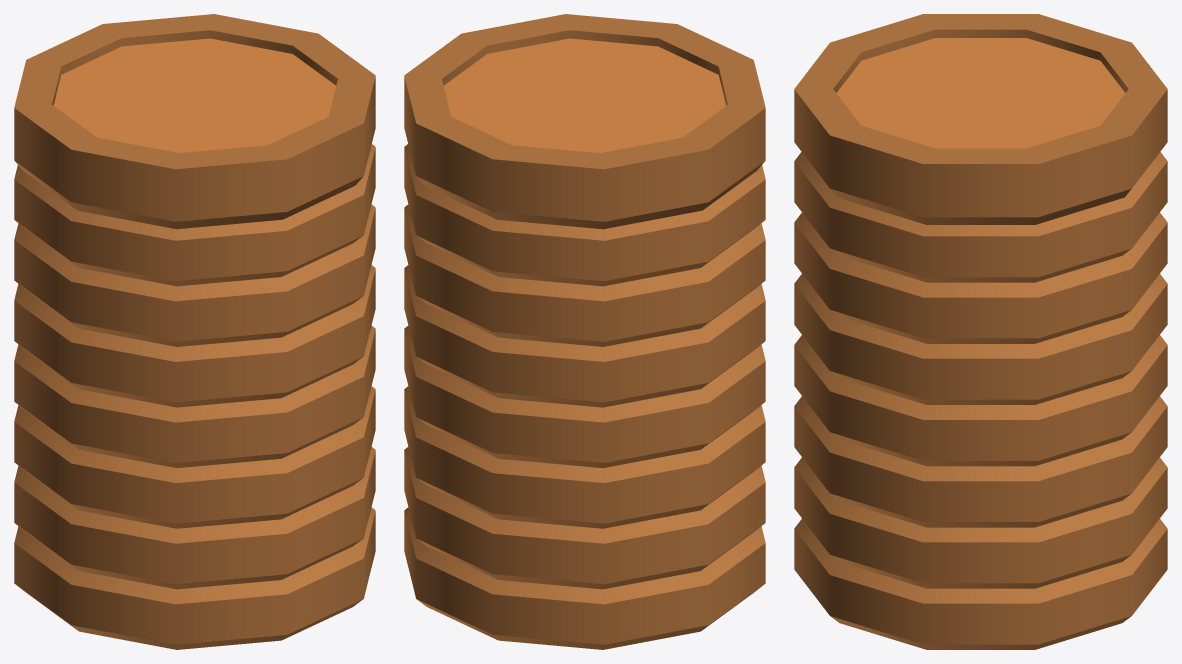
The model's file is Coin_Tower_04.fbx.
3 renders of one model, left to right at view 1: azimuth 30°, elevation 25°; view 2: azimuth 150°, elevation 25°; view 3: azimuth 270°, elevation 25°, orthographic.
Visible parts, largest first — view 1: Coin_Tower_04; view 2: Coin_Tower_04; view 3: Coin_Tower_04.
Part boxes in pixels (bbox=[...]): Coin_Tower_04: bbox=[14, 14, 375, 649]; Coin_Tower_04: bbox=[404, 14, 765, 649]; Coin_Tower_04: bbox=[794, 14, 1167, 649].
Bounding box in the file's own units: 0.0413 × 0.063 × 0.0435.
